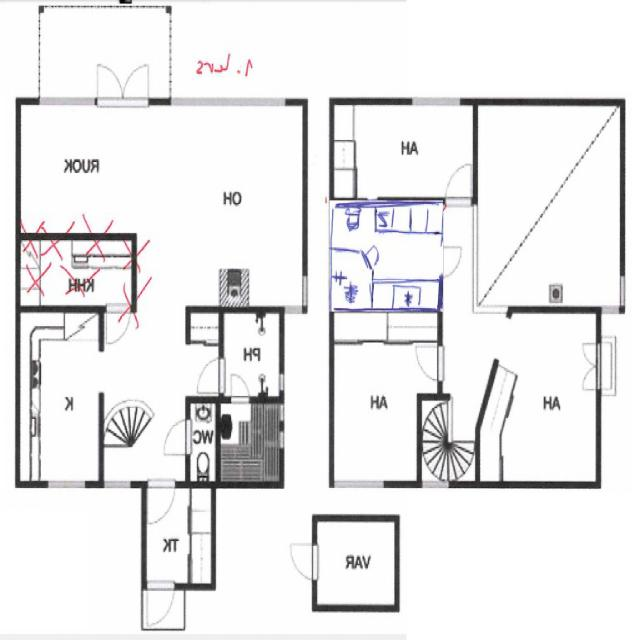door: (148, 481, 175, 528), (148, 583, 174, 628), (97, 61, 123, 105), (122, 61, 148, 105), (445, 160, 471, 204), (194, 358, 223, 393), (162, 419, 190, 455), (289, 545, 317, 579), (415, 346, 442, 380), (357, 237, 381, 273), (438, 246, 464, 277), (231, 370, 249, 403), (581, 343, 600, 366), (581, 366, 600, 388)
